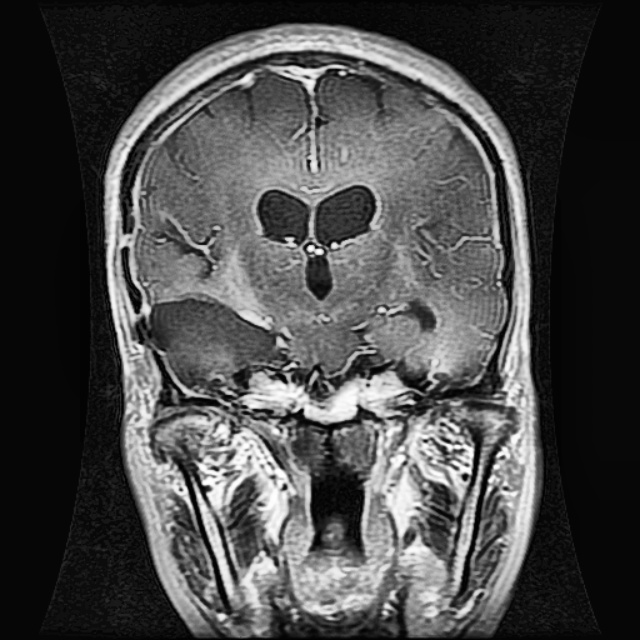Meningioma: (147, 289, 294, 395)
